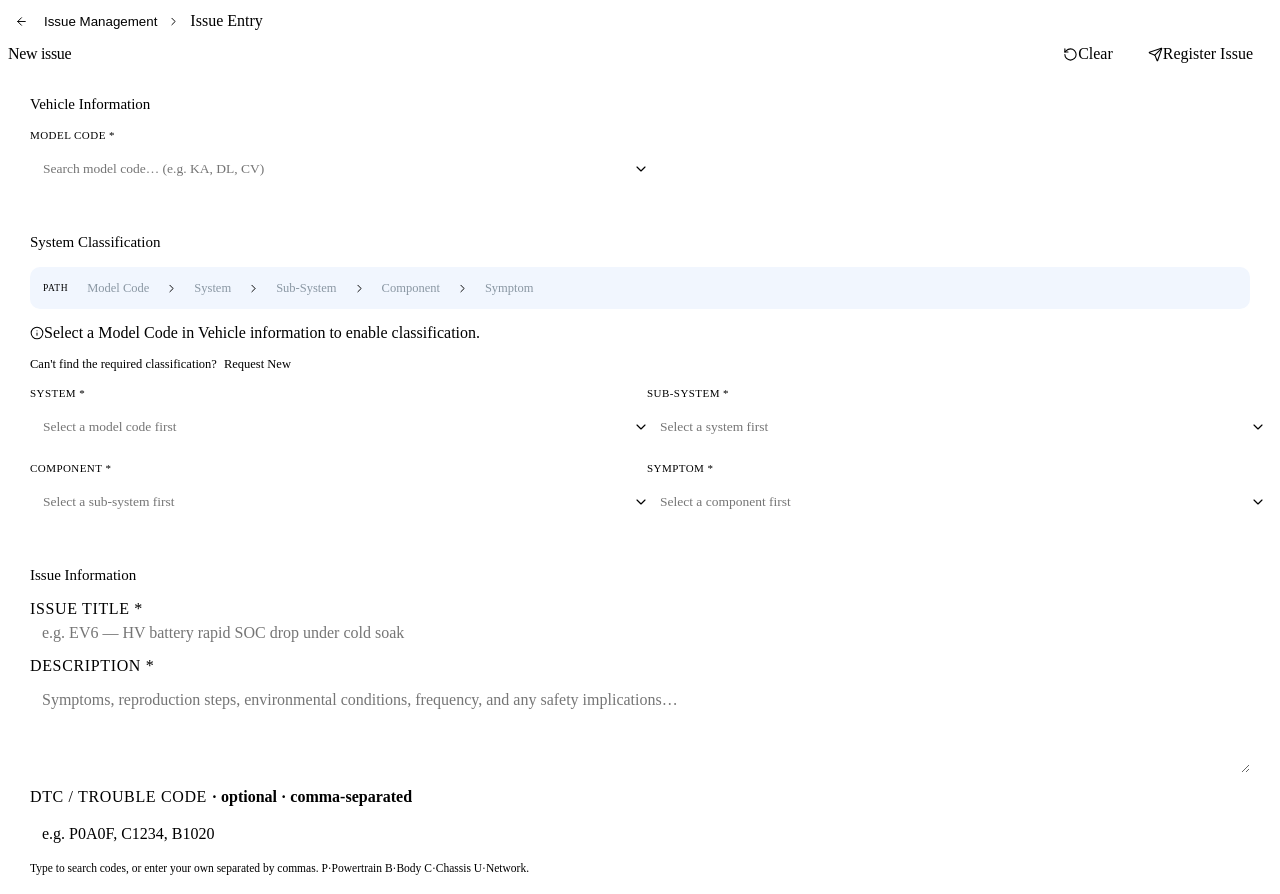
Test case: Register Issue reports what is missing › an empty form reports its blocking fields instead of doing nothing
Click the button "Register Issue".
click(1200, 54)  # box [1129,34,1272,74]
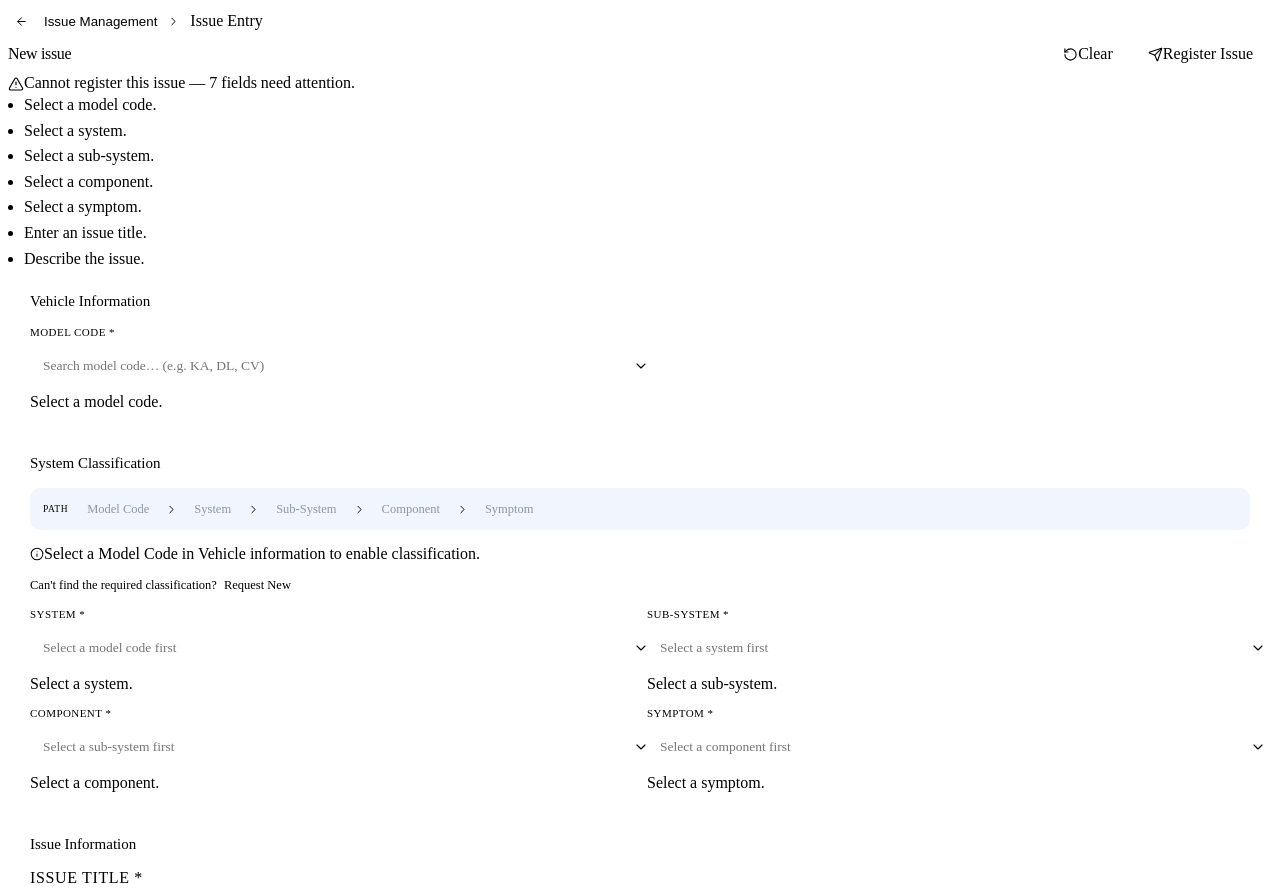
Expected: the text "Select a model code." is shown, [24,96,156,113]
Result: the text "Cannot register this issue" is shown at [24,74,355,91]
Result: the text "Enter an issue title." is shown at [24,224,147,241]
